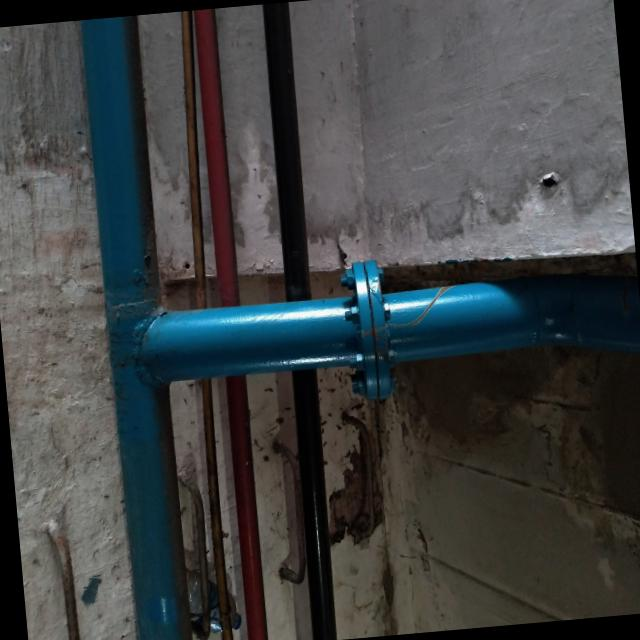gas: (79, 15, 193, 640), (256, 2, 343, 640), (188, 9, 270, 640), (133, 270, 543, 388)
